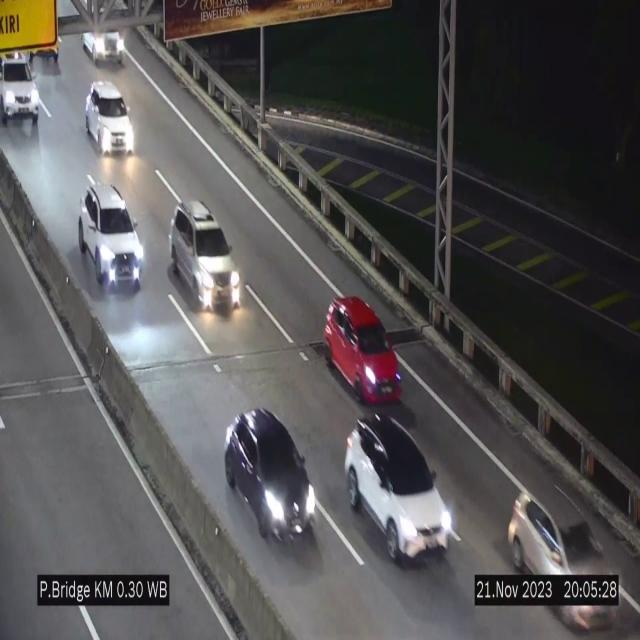Car: (500, 454, 620, 634), (345, 412, 453, 560), (225, 409, 317, 546), (324, 297, 402, 402), (169, 201, 242, 311), (76, 181, 145, 293), (0, 45, 44, 132), (86, 82, 134, 154), (82, 19, 126, 74)
